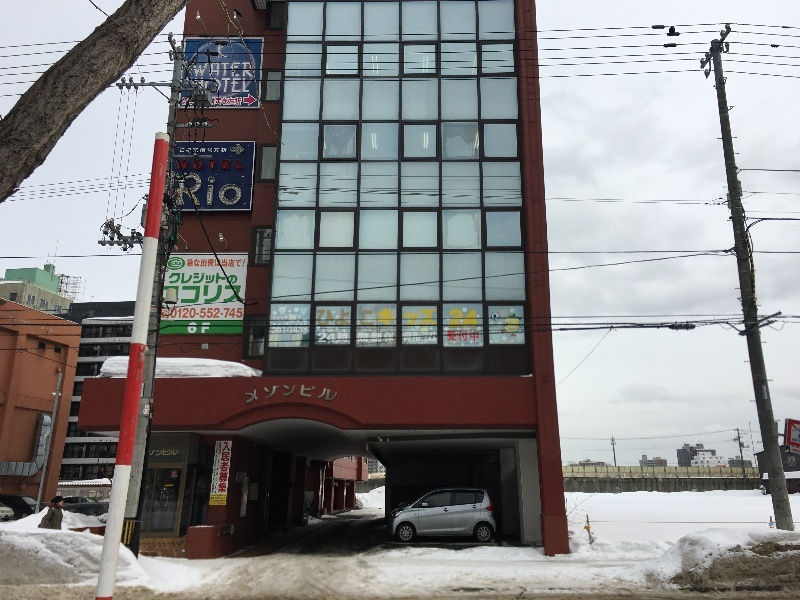text: (193, 170, 208, 206), (209, 170, 224, 206), (225, 170, 240, 206), (181, 170, 192, 206), (225, 442, 231, 493), (257, 384, 272, 404), (273, 384, 288, 404), (289, 384, 304, 404), (305, 384, 320, 404), (321, 384, 336, 404), (321, 308, 336, 327), (193, 285, 208, 304), (209, 285, 224, 304), (225, 285, 240, 304), (369, 308, 384, 326), (417, 308, 432, 326), (337, 308, 351, 327), (450, 308, 464, 327), (465, 308, 478, 327), (244, 384, 256, 404), (449, 329, 464, 344), (465, 329, 480, 344), (193, 62, 208, 77), (209, 62, 224, 77), (225, 62, 240, 77), (404, 308, 416, 326), (225, 79, 240, 93), (417, 329, 432, 342), (182, 285, 192, 304), (385, 308, 395, 326), (273, 323, 288, 335), (289, 323, 304, 335), (193, 322, 208, 334), (403, 329, 416, 342), (241, 62, 252, 77), (321, 331, 336, 342), (337, 331, 352, 342), (353, 331, 368, 342), (369, 331, 384, 342), (177, 273, 192, 284), (193, 273, 208, 284), (209, 273, 224, 284), (177, 308, 192, 319), (193, 308, 208, 319), (209, 308, 224, 319), (225, 308, 240, 319), (193, 159, 208, 170), (209, 159, 224, 170), (225, 159, 240, 170), (210, 494, 224, 505), (225, 273, 239, 284), (178, 159, 192, 170), (217, 448, 224, 468), (193, 97, 208, 106), (145, 405, 160, 414), (241, 79, 250, 93), (361, 308, 368, 326), (225, 98, 240, 106), (212, 484, 224, 494), (193, 259, 208, 267), (209, 259, 224, 267), (225, 259, 240, 267), (225, 44, 232, 60), (385, 331, 395, 342), (241, 170, 244, 206), (214, 474, 224, 484), (218, 44, 224, 60), (182, 97, 192, 106), (161, 450, 176, 456), (216, 483, 224, 493), (217, 465, 224, 476), (209, 148, 224, 153), (215, 98, 224, 106), (186, 322, 192, 334), (149, 450, 160, 456), (170, 273, 176, 284), (199, 476, 208, 483), (196, 489, 208, 494), (317, 308, 320, 327), (241, 285, 244, 304), (181, 148, 192, 153), (209, 97, 215, 106), (433, 308, 436, 326), (433, 329, 437, 342), (223, 442, 224, 493), (220, 442, 224, 454), (792, 437, 800, 443), (215, 469, 224, 474), (172, 308, 176, 319), (217, 477, 224, 483), (241, 259, 246, 267), (305, 323, 308, 335), (201, 148, 208, 153), (241, 159, 244, 170), (188, 259, 192, 267), (193, 148, 199, 153), (218, 460, 224, 465), (222, 79, 224, 93), (217, 443, 224, 447), (172, 472, 176, 478), (209, 322, 211, 334), (318, 331, 320, 342), (241, 308, 243, 319), (337, 384, 338, 404), (177, 262, 182, 266), (241, 98, 243, 106), (172, 262, 176, 266), (447, 329, 448, 344), (225, 148, 228, 153), (177, 450, 179, 456), (225, 494, 226, 505), (177, 472, 178, 478)
